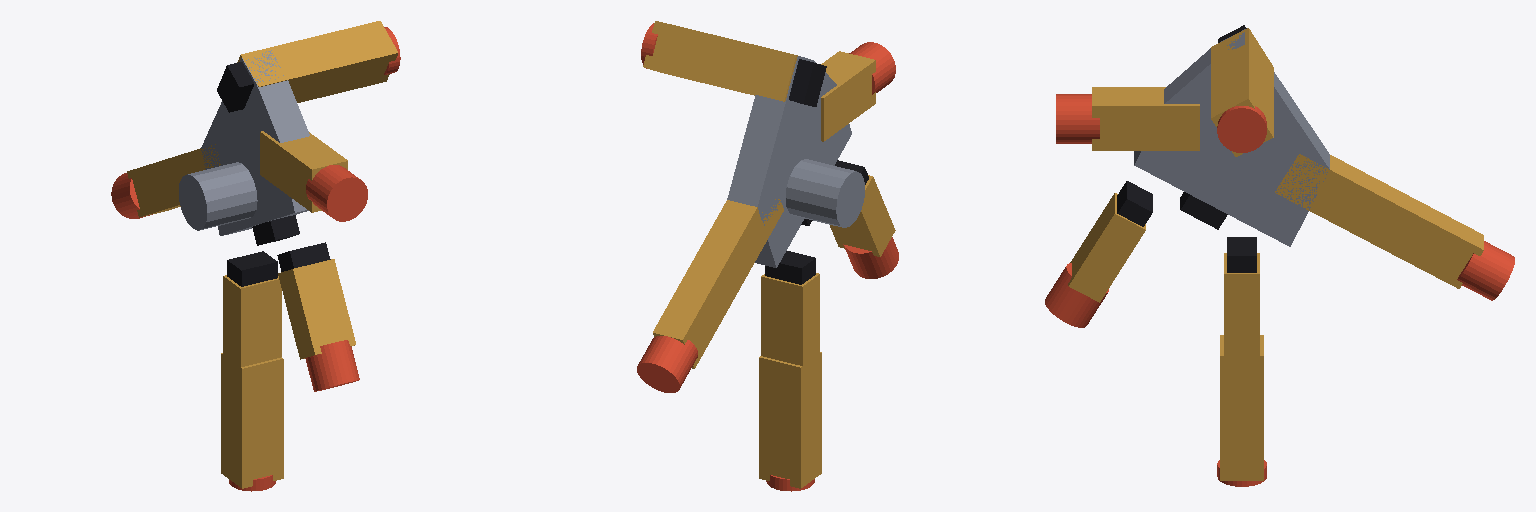
The robot description file, URDF, robot "g0017_c08":
<robot name="g0017_c08">
  <link name="palm">
    <visual name="palm_palm1">
      <origin xyz="0 0 0" rpy="0 0 0" />
      <geometry>
        <mesh filename="palm_palm1.obj" />
      </geometry>
      <material name="palm_palm1_mat">
        <color rgba="0.55 0.57 0.62 1" />
      </material>
    </visual>
    <collision>
      <origin xyz="0 0 0" rpy="0 0 0" />
      <geometry>
        <mesh filename="palm_palm1.obj" />
      </geometry>
    </collision>
    <visual name="palm_mount2">
      <origin xyz="0 0 0" rpy="0 0 0" />
      <geometry>
        <mesh filename="palm_mount2.obj" />
      </geometry>
      <material name="palm_mount2_mat">
        <color rgba="0.55 0.57 0.62 1" />
      </material>
    </visual>
    <collision>
      <origin xyz="0 0 0" rpy="0 0 0" />
      <geometry>
        <mesh filename="palm_mount2.obj" />
      </geometry>
    </collision>
    <visual name="palm_hinge3">
      <origin xyz="0 -0.019910254 -0.0144855716" rpy="1.57079633 -0.523598776 -1.57079633" />
      <geometry>
        <box size="0.029 0.034 0.02" />
      </geometry>
      <material name="palm_hinge3_mat">
        <color rgba="0.15 0.15 0.17 1" />
      </material>
    </visual>
    <collision>
      <origin xyz="0 -0.019910254 -0.0144855716" rpy="1.57079633 -0.523598776 -1.57079633" />
      <geometry>
        <box size="0.029 0.034 0.02" />
      </geometry>
    </collision>
    <visual name="palm_motor4">
      <origin xyz="0 -0.0325 0.04" rpy="-0 -1.57079633 0" />
      <geometry>
        <box size="0.029 0.034 0.02" />
      </geometry>
      <material name="palm_motor4_mat">
        <color rgba="0.15 0.15 0.17 1" />
      </material>
    </visual>
    <collision>
      <origin xyz="0 -0.0325 0.04" rpy="-0 -1.57079633 0" />
      <geometry>
        <box size="0.029 0.034 0.02" />
      </geometry>
    </collision>
    <visual name="palm_motor5">
      <origin xyz="-0.007 2.29621275e-19 0.08" rpy="-1.06057524e-16 1.04719755 1.57079633" />
      <geometry>
        <box size="0.029 0.034 0.02" />
      </geometry>
      <material name="palm_motor5_mat">
        <color rgba="0.15 0.15 0.17 1" />
      </material>
    </visual>
    <collision>
      <origin xyz="-0.007 2.29621275e-19 0.08" rpy="-1.06057524e-16 1.04719755 1.57079633" />
      <geometry>
        <box size="0.029 0.034 0.02" />
      </geometry>
    </collision>
    <visual name="palm_motor6">
      <origin xyz="0 0.0335048095 0.00375" rpy="1.57079633 1.04719755 -1.57079633" />
      <geometry>
        <box size="0.029 0.034 0.02" />
      </geometry>
      <material name="palm_motor6_mat">
        <color rgba="0.15 0.15 0.17 1" />
      </material>
    </visual>
    <collision>
      <origin xyz="0 0.0335048095 0.00375" rpy="1.57079633 1.04719755 -1.57079633" />
      <geometry>
        <box size="0.029 0.034 0.02" />
      </geometry>
    </collision>
    <inertial>
      <origin xyz="7.01471761e-20 -0.00309426386 0.0242843732" rpy="1.57079633 0.965608564 1.57079633" />
      <mass value="0.440237387" />
      <inertia ixx="0.000315521743" ixy="0" ixz="0" iyy="0.000533263342" iyz="0" izz="0.000806522296" />
    </inertial>
  </link>
  <link name="palm0">
    <visual name="palm0_palm1">
      <origin xyz="0 0 0" rpy="0 0 0" />
      <geometry>
        <mesh filename="palm0_palm1.obj" />
      </geometry>
      <material name="palm0_palm1_mat">
        <color rgba="0.55 0.57 0.62 1" />
      </material>
    </visual>
    <collision>
      <origin xyz="0 0 0" rpy="0 0 0" />
      <geometry>
        <mesh filename="palm0_palm1.obj" />
      </geometry>
    </collision>
    <visual name="palm0_motor2">
      <origin xyz="-0.0045 -0.052589746 -0.0125240474" rpy="1.04719755 -3.061617e-17 -5.30287619e-17" />
      <geometry>
        <box size="0.029 0.034 0.02" />
      </geometry>
      <material name="palm0_motor2_mat">
        <color rgba="0.15 0.15 0.17 1" />
      </material>
    </visual>
    <collision>
      <origin xyz="-0.0045 -0.052589746 -0.0125240474" rpy="1.04719755 -3.061617e-17 -5.30287619e-17" />
      <geometry>
        <box size="0.029 0.034 0.02" />
      </geometry>
    </collision>
    <visual name="palm0_motor3">
      <origin xyz="-0.0045 0.023660254 -0.0515192379" rpy="1.57079633 7.49879891e-33 -6.123234e-17" />
      <geometry>
        <box size="0.029 0.034 0.02" />
      </geometry>
      <material name="palm0_motor3_mat">
        <color rgba="0.15 0.15 0.17 1" />
      </material>
    </visual>
    <collision>
      <origin xyz="-0.0045 0.023660254 -0.0515192379" rpy="1.57079633 7.49879891e-33 -6.123234e-17" />
      <geometry>
        <box size="0.029 0.034 0.02" />
      </geometry>
    </collision>
    <inertial>
      <origin xyz="0 -0.0112670786 -0.0275593664" rpy="-1.57079633 0.513277006 1.57079633" />
      <mass value="0.251409314" />
      <inertia ixx="6.60553656e-05" ixy="0" ixz="0" iyy="0.000298623958" iyz="0" izz="0.000340544029" />
    </inertial>
  </link>
  <link name="f0_link0">
    <visual name="f0_link0_link1">
      <origin xyz="0.01875 0 -1.38777878e-17" rpy="0 4.06369831e-17 0" />
      <geometry>
        <box size="0.0615 0.033 0.024" />
      </geometry>
      <material name="f0_link0_link1_mat">
        <color rgba="0.80 0.62 0.30 1" />
      </material>
    </visual>
    <collision>
      <origin xyz="0.01875 0 -1.38777878e-17" rpy="0 4.06369831e-17 0" />
      <geometry>
        <box size="0.0615 0.033 0.024" />
      </geometry>
    </collision>
    <inertial>
      <origin xyz="0.01875 0 0" rpy="0 0 0" />
      <mass value="0.085239" />
      <inertia ixx="1.18269113e-05" ixy="0" ixz="0" iyy="3.09577393e-05" iyz="0" izz="3.46017066e-05" />
    </inertial>
  </link>
  <link name="f0_link1">
    <visual name="f0_link1_link1">
      <origin xyz="0.019 0 -6.9388939e-18" rpy="-1.57079633 -0 -1.57079633" />
      <geometry>
        <cylinder radius="0.0165" length="0.029" />
      </geometry>
      <material name="f0_link1_link1_mat">
        <color rgba="0.85 0.35 0.25 1" />
      </material>
    </visual>
    <collision>
      <origin xyz="0.019 0 -6.9388939e-18" rpy="-1.57079633 -0 -1.57079633" />
      <geometry>
        <cylinder radius="0.0165" length="0.029" />
      </geometry>
    </collision>
    <inertial>
      <origin xyz="0.019 0 0" rpy="0 0 0" />
      <mass value="0.0763354" />
      <inertia ixx="9.49466441e-06" ixy="0" ixz="0" iyy="2.24143997e-05" iyz="0" izz="2.24143997e-05" />
    </inertial>
  </link>
  <link name="f1_link0">
    <visual name="f1_link0_link1">
      <origin xyz="0.02375 0 0" rpy="0 -0 0" />
      <geometry>
        <box size="0.0715 0.029 0.033" />
      </geometry>
      <material name="f1_link0_link1_mat">
        <color rgba="0.80 0.62 0.30 1" />
      </material>
    </visual>
    <collision>
      <origin xyz="0.02375 0 0" rpy="0 -0 0" />
      <geometry>
        <box size="0.0715 0.029 0.033" />
      </geometry>
    </collision>
    <inertial>
      <origin xyz="0.02375 0 0" rpy="0 0 0" />
      <mass value="0.119744625" />
      <inertia ixx="1.92589272e-05" ixy="0" ixz="0" iyy="6.18805296e-05" iyz="0" izz="5.94058074e-05" />
    </inertial>
  </link>
  <link name="f1_link1">
    <visual name="f1_link1_link1">
      <origin xyz="0.019 0 3.46944695e-18" rpy="-1.57079633 -0 -1.57079633" />
      <geometry>
        <cylinder radius="0.0165" length="0.029" />
      </geometry>
      <material name="f1_link1_link1_mat">
        <color rgba="0.85 0.35 0.25 1" />
      </material>
    </visual>
    <collision>
      <origin xyz="0.019 0 3.46944695e-18" rpy="-1.57079633 -0 -1.57079633" />
      <geometry>
        <cylinder radius="0.0165" length="0.029" />
      </geometry>
    </collision>
    <inertial>
      <origin xyz="0.019 0 0" rpy="0 0 0" />
      <mass value="0.0763354" />
      <inertia ixx="9.49466441e-06" ixy="0" ixz="0" iyy="2.24143997e-05" iyz="0" izz="2.24143997e-05" />
    </inertial>
  </link>
  <link name="f2_link0">
    <visual name="f2_link0_link1">
      <origin xyz="0.02875 0 0" rpy="0 -0 0" />
      <geometry>
        <box size="0.0815 0.033 0.024" />
      </geometry>
      <material name="f2_link0_link1_mat">
        <color rgba="0.80 0.62 0.30 1" />
      </material>
    </visual>
    <collision>
      <origin xyz="0.02875 0 0" rpy="0 -0 0" />
      <geometry>
        <box size="0.0815 0.033 0.024" />
      </geometry>
    </collision>
    <inertial>
      <origin xyz="0.02875 0 0" rpy="0 0 0" />
      <mass value="0.112959" />
      <inertia ixx="1.56730613e-05" ixy="0" ixz="0" iyy="6.79471918e-05" iyz="0" izz="7.27761891e-05" />
    </inertial>
  </link>
  <link name="f2_link1">
    <visual name="f2_link1_link1">
      <origin xyz="0.03375 0 0" rpy="0 -0 0" />
      <geometry>
        <box size="0.0915 0.033 0.029" />
      </geometry>
      <material name="f2_link1_link1_mat">
        <color rgba="0.80 0.62 0.30 1" />
      </material>
    </visual>
    <collision>
      <origin xyz="0.03375 0 0" rpy="0 -0 0" />
      <geometry>
        <box size="0.0915 0.033 0.029" />
      </geometry>
    </collision>
    <inertial>
      <origin xyz="0.03375 0 0" rpy="0 0 0" />
      <mass value="0.153239625" />
      <inertia ixx="2.46460397e-05" ixy="0" ixz="0" iyy="0.000117652915" iyz="0" izz="0.000120819867" />
    </inertial>
  </link>
  <link name="f2_link2">
    <visual name="f2_link2_link1">
      <origin xyz="0.009 0 0" rpy="-1.57079633 -0 -1.57079633" />
      <geometry>
        <cylinder radius="0.0165" length="0.009" />
      </geometry>
      <material name="f2_link2_link1_mat">
        <color rgba="0.85 0.35 0.25 1" />
      </material>
    </visual>
    <collision>
      <origin xyz="0.009 0 0" rpy="-1.57079633 -0 -1.57079633" />
      <geometry>
        <cylinder radius="0.0165" length="0.009" />
      </geometry>
    </collision>
    <inertial>
      <origin xyz="0.009 0 0" rpy="0 0 0" />
      <mass value="0.046399949" />
      <inertia ixx="5.41970115e-06" ixy="0" ixz="0" iyy="7.09430898e-06" iyz="0" izz="7.09430898e-06" />
    </inertial>
  </link>
  <link name="f3_link0">
    <visual name="f3_link0_link1">
      <origin xyz="0.04375 1.38777878e-17 0" rpy="3.98552134e-18 1.1024023e-33 1.87768018e-33" />
      <geometry>
        <box size="0.1115 0.033 0.029" />
      </geometry>
      <material name="f3_link0_link1_mat">
        <color rgba="0.80 0.62 0.30 1" />
      </material>
    </visual>
    <collision>
      <origin xyz="0.04375 1.38777878e-17 0" rpy="3.98552134e-18 1.1024023e-33 1.87768018e-33" />
      <geometry>
        <box size="0.1115 0.033 0.029" />
      </geometry>
    </collision>
    <inertial>
      <origin xyz="0.04375 0 0" rpy="0 0 0" />
      <mass value="0.186734625" />
      <inertia ixx="3.00331522e-05" ixy="0" ixz="0" iyy="0.000206547947" iyz="0" izz="0.000210407129" />
    </inertial>
  </link>
  <link name="f3_link1">
    <visual name="f3_link1_link1">
      <origin xyz="0.009 1.38777878e-17 -6.9388939e-18" rpy="-1.57079633 -0 -1.57079633" />
      <geometry>
        <cylinder radius="0.0165" length="0.009" />
      </geometry>
      <material name="f3_link1_link1_mat">
        <color rgba="0.85 0.35 0.25 1" />
      </material>
    </visual>
    <collision>
      <origin xyz="0.009 1.38777878e-17 -6.9388939e-18" rpy="-1.57079633 -0 -1.57079633" />
      <geometry>
        <cylinder radius="0.0165" length="0.009" />
      </geometry>
    </collision>
    <inertial>
      <origin xyz="0.009 0 0" rpy="0 0 0" />
      <mass value="0.046399949" />
      <inertia ixx="5.41970115e-06" ixy="0" ixz="0" iyy="7.09430898e-06" iyz="0" izz="7.09430898e-06" />
    </inertial>
  </link>
  <link name="f4_link0">
    <visual name="f4_link0_link1">
      <origin xyz="0.02375 0 -3.46944695e-18" rpy="0 2.57628149e-17 0" />
      <geometry>
        <box size="0.0715 0.024 0.033" />
      </geometry>
      <material name="f4_link0_link1_mat">
        <color rgba="0.80 0.62 0.30 1" />
      </material>
    </visual>
    <collision>
      <origin xyz="0.02375 0 -3.46944695e-18" rpy="0 2.57628149e-17 0" />
      <geometry>
        <box size="0.0715 0.024 0.033" />
      </geometry>
    </collision>
    <inertial>
      <origin xyz="0.02375 0 0" rpy="0 0 0" />
      <mass value="0.099099" />
      <inertia ixx="1.37499863e-05" ixy="0" ixz="0" iyy="5.12114728e-05" iyz="0" izz="4.69749906e-05" />
    </inertial>
  </link>
  <link name="f4_link1">
    <visual name="f4_link1_link1">
      <origin xyz="0.03375 0 6.9388939e-18" rpy="0 2.57628149e-17 0" />
      <geometry>
        <box size="0.0915 0.024 0.033" />
      </geometry>
      <material name="f4_link1_link1_mat">
        <color rgba="0.80 0.62 0.30 1" />
      </material>
    </visual>
    <collision>
      <origin xyz="0.03375 0 6.9388939e-18" rpy="0 2.57628149e-17 0" />
      <geometry>
        <box size="0.0915 0.024 0.033" />
      </geometry>
    </collision>
    <inertial>
      <origin xyz="0.03375 0 0" rpy="0 0 0" />
      <mass value="0.126819" />
      <inertia ixx="1.75961363e-05" ixy="0" ixz="0" iyy="9.99888553e-05" iyz="0" izz="9.45673431e-05" />
    </inertial>
  </link>
  <link name="f4_link2">
    <visual name="f4_link2_link1">
      <origin xyz="0.019 0 5.20417043e-18" rpy="-1.57079633 -0 -1.57079633" />
      <geometry>
        <cylinder radius="0.0165" length="0.029" />
      </geometry>
      <material name="f4_link2_link1_mat">
        <color rgba="0.85 0.35 0.25 1" />
      </material>
    </visual>
    <collision>
      <origin xyz="0.019 0 5.20417043e-18" rpy="-1.57079633 -0 -1.57079633" />
      <geometry>
        <cylinder radius="0.0165" length="0.029" />
      </geometry>
    </collision>
    <inertial>
      <origin xyz="0.019 0 0" rpy="0 0 0" />
      <mass value="0.0763354" />
      <inertia ixx="9.49466441e-06" ixy="0" ixz="0" iyy="2.24143997e-05" iyz="0" izz="2.24143997e-05" />
    </inertial>
  </link>
  <joint name="palm0_joint" type="revolute">
    <parent link="palm" />
    <child link="palm0" />
    <origin xyz="0 -0.023660254 -0.0209807621" rpy="0 0 0" />
    <axis xyz="0 -0.866025404 0.5" />
    <limit effort="0.5" lower="-0.523598776" upper="0.523598776" velocity="5" />
    <dynamics damping="0.0775033" friction="0" />
  </joint>
  <joint name="f0_j0" type="revolute">
    <parent link="palm0" />
    <child link="f0_link0" />
    <origin xyz="-0.0045 -0.056339746 -0.0190192379" rpy="0 1.04719755 -1.57079633" />
    <axis xyz="0 1 6.123234e-17" />
    <limit effort="0.5" lower="-0.523598776" upper="0.523598776" velocity="5" />
    <dynamics damping="0.0775033" friction="0" />
  </joint>
  <joint name="f0_j1" type="revolute">
    <parent link="f0_link0" />
    <child link="f0_link1" />
    <origin xyz="0.04 0 0" rpy="0 0 0" />
    <axis xyz="0 1 6.123234e-17" />
    <limit effort="0.5" lower="-0.523598776" upper="0.523598776" velocity="5" />
    <dynamics damping="0.0775033" friction="0" />
  </joint>
  <joint name="f1_j0" type="revolute">
    <parent link="palm" />
    <child link="f1_link0" />
    <origin xyz="0 -0.04 0.04" rpy="0 1.8369702e-16 -1.57079633" />
    <axis xyz="0 0 1" />
    <limit effort="0.5" lower="-0.523598776" upper="1.57079633" velocity="5" />
    <dynamics damping="0.0775033" friction="0" />
  </joint>
  <joint name="f1_j1" type="revolute">
    <parent link="f1_link0" />
    <child link="f1_link1" />
    <origin xyz="0.05 0 0" rpy="0 0 0" />
    <axis xyz="-0 -1 -6.123234e-17" />
    <limit effort="0.5" lower="-0.523598776" upper="0.523598776" velocity="5" />
    <dynamics damping="0.0775033" friction="0" />
  </joint>
  <joint name="f2_j0" type="revolute">
    <parent link="palm0" />
    <child link="f2_link0" />
    <origin xyz="-0.0045 0.023660254 -0.0590192379" rpy="1.57079633 1.57079633 0" />
    <axis xyz="0 1 6.123234e-17" />
    <limit effort="0.5" lower="-0.523598776" upper="0.523598776" velocity="5" />
    <dynamics damping="0.0775033" friction="0" />
  </joint>
  <joint name="f2_j1" type="revolute">
    <parent link="f2_link0" />
    <child link="f2_link1" />
    <origin xyz="0.06 0 0" rpy="0 0 0" />
    <axis xyz="0 1 6.123234e-17" />
    <limit effort="0.5" lower="-0.523598776" upper="0.523598776" velocity="5" />
    <dynamics damping="0.0775033" friction="0" />
  </joint>
  <joint name="f2_j2" type="revolute">
    <parent link="f2_link1" />
    <child link="f2_link2" />
    <origin xyz="0.07 0 0" rpy="0 0 0" />
    <axis xyz="0 0 1" />
    <limit effort="0.5" lower="-0.523598776" upper="1.57079633" velocity="5" />
    <dynamics damping="0.0775033" friction="0" />
  </joint>
  <joint name="f3_j0" type="revolute">
    <parent link="palm" />
    <child link="f3_link0" />
    <origin xyz="0.0005 0 0.08" rpy="-1.04719755 -5.30287619e-17 -3.061617e-17" />
    <axis xyz="-0 -1 -6.123234e-17" />
    <limit effort="0.5" lower="-0.523598776" upper="0.523598776" velocity="5" />
    <dynamics damping="0.0775033" friction="0" />
  </joint>
  <joint name="f3_j1" type="revolute">
    <parent link="f3_link0" />
    <child link="f3_link1" />
    <origin xyz="0.09 0 0" rpy="0 0 0" />
    <axis xyz="0 0 1" />
    <limit effort="0.5" lower="-0.523598776" upper="1.57079633" velocity="5" />
    <dynamics damping="0.0775033" friction="0" />
  </joint>
  <joint name="f4_j0" type="revolute">
    <parent link="palm" />
    <child link="f4_link0" />
    <origin xyz="0 0.04 0" rpy="3.14159265 0.523598776 1.57079633" />
    <axis xyz="0 0 1" />
    <limit effort="0.5" lower="-0.523598776" upper="1.57079633" velocity="5" />
    <dynamics damping="0.0775033" friction="0" />
  </joint>
  <joint name="f4_j1" type="revolute">
    <parent link="f4_link0" />
    <child link="f4_link1" />
    <origin xyz="0.05 0 0" rpy="0 0 0" />
    <axis xyz="0 0 1" />
    <limit effort="0.5" lower="-0.523598776" upper="1.57079633" velocity="5" />
    <dynamics damping="0.0775033" friction="0" />
  </joint>
  <joint name="f4_j2" type="revolute">
    <parent link="f4_link1" />
    <child link="f4_link2" />
    <origin xyz="0.07 0 0" rpy="0 0 0" />
    <axis xyz="0 0 1" />
    <limit effort="0.5" lower="-0.523598776" upper="1.57079633" velocity="5" />
    <dynamics damping="0.0775033" friction="0" />
  </joint>
</robot>

--- What the picture shows (computed from the rendered views, not written in the file) ---
The picture shows the robot from 3 angles, left to right: view 1: azimuth 30°, elevation 25°; view 2: azimuth 150°, elevation 25°; view 3: azimuth 270°, elevation 25°; orthographic projection.
Model g0017_c08 with 14 links and 13 joints (13 revolute), rooted at palm, posed every joint at zero.
Visible links, largest first — view 1: palm, f3_link0, f2_link1, f0_link0, f2_link0, f1_link0, f1_link1, f4_link1, palm0, f0_link1, f4_link2; view 2: palm, f2_link1, f3_link0, f4_link1, f2_link0, f4_link0, f1_link0, f4_link2, f0_link0, palm0, f0_link1, f1_link1; view 3: palm, f4_link1, f1_link0, f2_link1, f4_link0, f3_link0, f0_link0, f2_link0, palm0, f4_link2, f1_link1, f3_link1 (+1 smaller).
Link boxes in pixels (box(x1,y1,x2,y2)): palm: box(179, 50, 309, 245); f3_link0: box(237, 21, 397, 102); f2_link1: box(221, 353, 283, 488); f0_link0: box(278, 259, 355, 359); f2_link0: box(223, 275, 281, 393); f1_link0: box(260, 131, 347, 212); f1_link1: box(306, 165, 367, 221); f4_link1: box(127, 154, 189, 217); palm0: box(227, 242, 330, 286); f0_link1: box(305, 340, 359, 391); f4_link2: box(111, 173, 152, 218); palm: box(727, 56, 864, 267); f2_link1: box(759, 352, 821, 488); f3_link0: box(643, 21, 797, 101); f4_link1: box(653, 230, 741, 368); f2_link0: box(761, 273, 819, 384); f4_link0: box(697, 199, 783, 289); f1_link0: box(821, 51, 875, 141); f4_link2: box(637, 336, 697, 392); f0_link0: box(830, 175, 895, 256); palm0: box(765, 160, 868, 284); f0_link1: box(843, 237, 898, 278); f1_link1: box(849, 42, 895, 94); palm: box(1134, 25, 1329, 246); f4_link1: box(1342, 173, 1483, 288); f1_link0: box(1092, 87, 1199, 150); f2_link1: box(1220, 335, 1263, 480); f4_link0: box(1275, 154, 1392, 239); f3_link0: box(1211, 28, 1273, 156); f0_link0: box(1068, 193, 1145, 302); f2_link0: box(1224, 253, 1259, 385); palm0: box(1117, 181, 1256, 272); f4_link2: box(1457, 241, 1514, 300); f1_link1: box(1056, 94, 1099, 143); f3_link1: box(1217, 106, 1266, 152).
Bounding box of the posed robot: 0.156 × 0.3122 × 0.325 m (x, y, z).
Meshes: 3 distinct files referenced, 2 mesh visuals loaded (2 OBJ); not drawn: 1 (reference not matched to a file when rendering).
